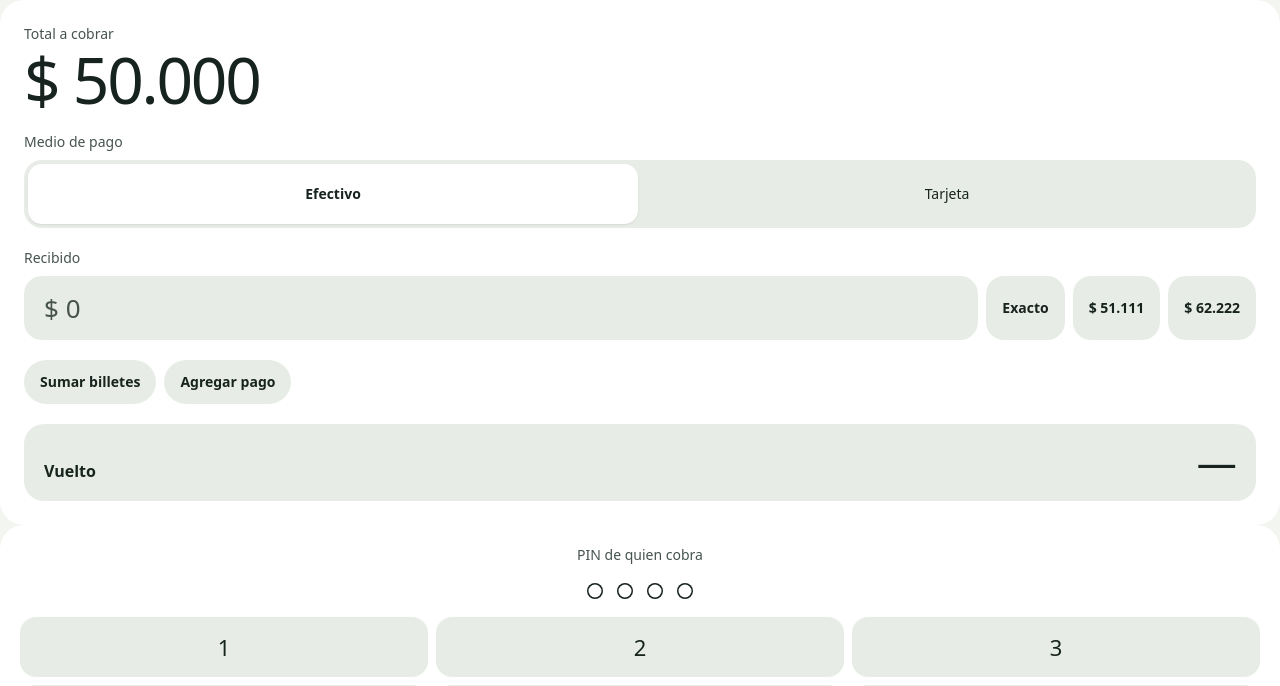
PaymentSplitsForm — «Cobrar $ X» (handoff PosCobro) › con un medio que no es efectivo, lo recibido es el total y el vuelto «No aplica»
The width and height of the screenshot is (1280, 686).
What coordinates should you click on to do the following:
click the radio button labelled "Tarjeta"
I would click on:
 (947, 194)
Its box is 642,164 -> 1252,224.
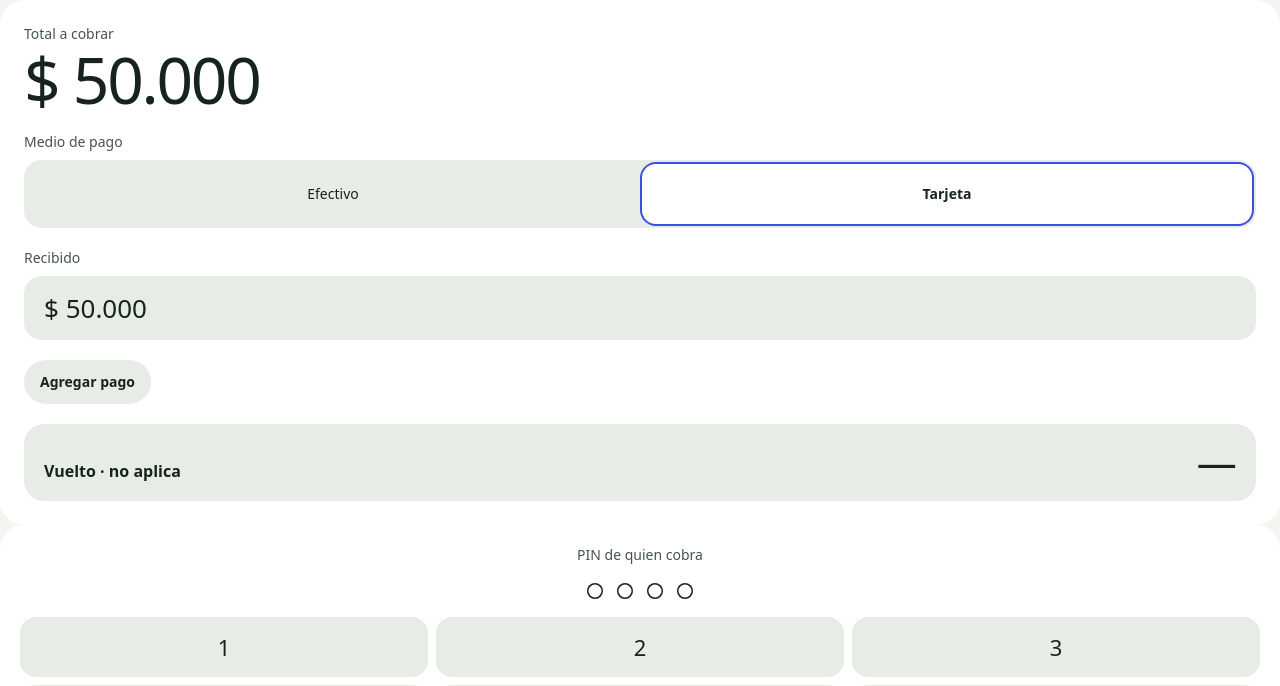
Check: the message with test id "cobro-vuelto" shows "—", box 1197,434 -> 1236,489
Check: the text "Vuelto · no aplica" is shown, box 44,459 -> 181,483
